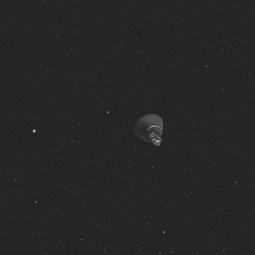debris: (127, 106, 169, 152)
